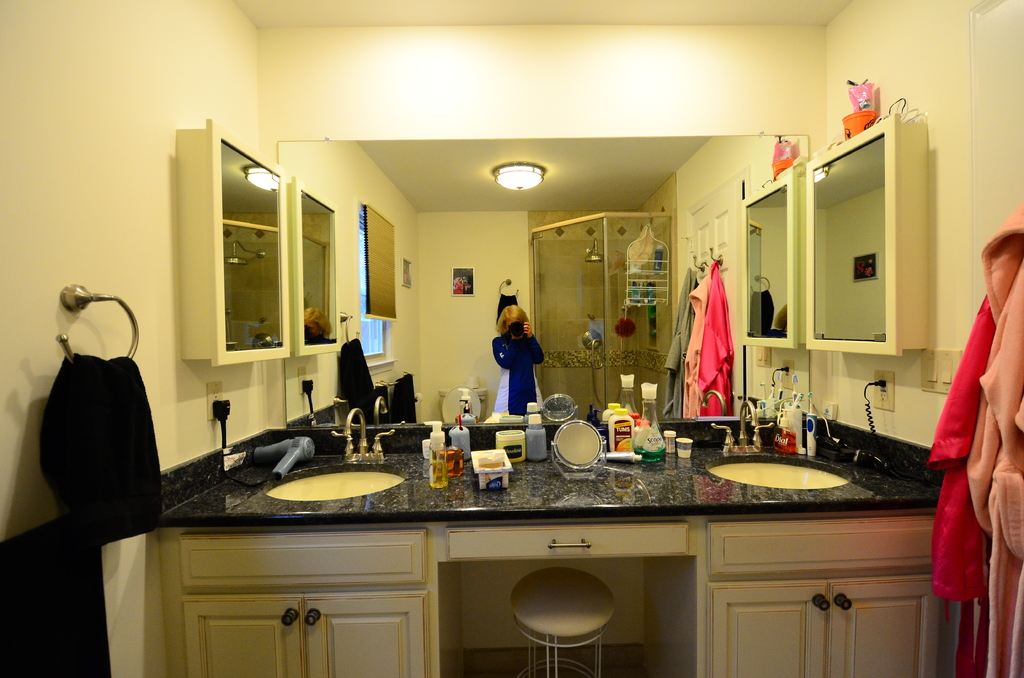Cabinetry: (158, 524, 431, 677), (704, 522, 938, 677), (801, 113, 929, 355), (175, 117, 291, 365), (734, 165, 809, 344), (294, 171, 349, 357)
